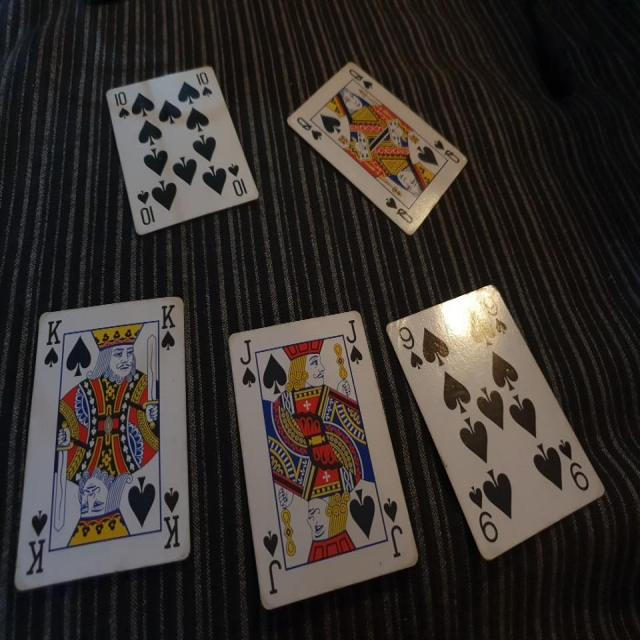10 Spades: (98, 61, 263, 240)
9 Spades: (381, 276, 608, 554)
J Spades: (216, 296, 421, 609)
K Spades: (9, 290, 198, 598)
Q Spades: (285, 56, 470, 242)
